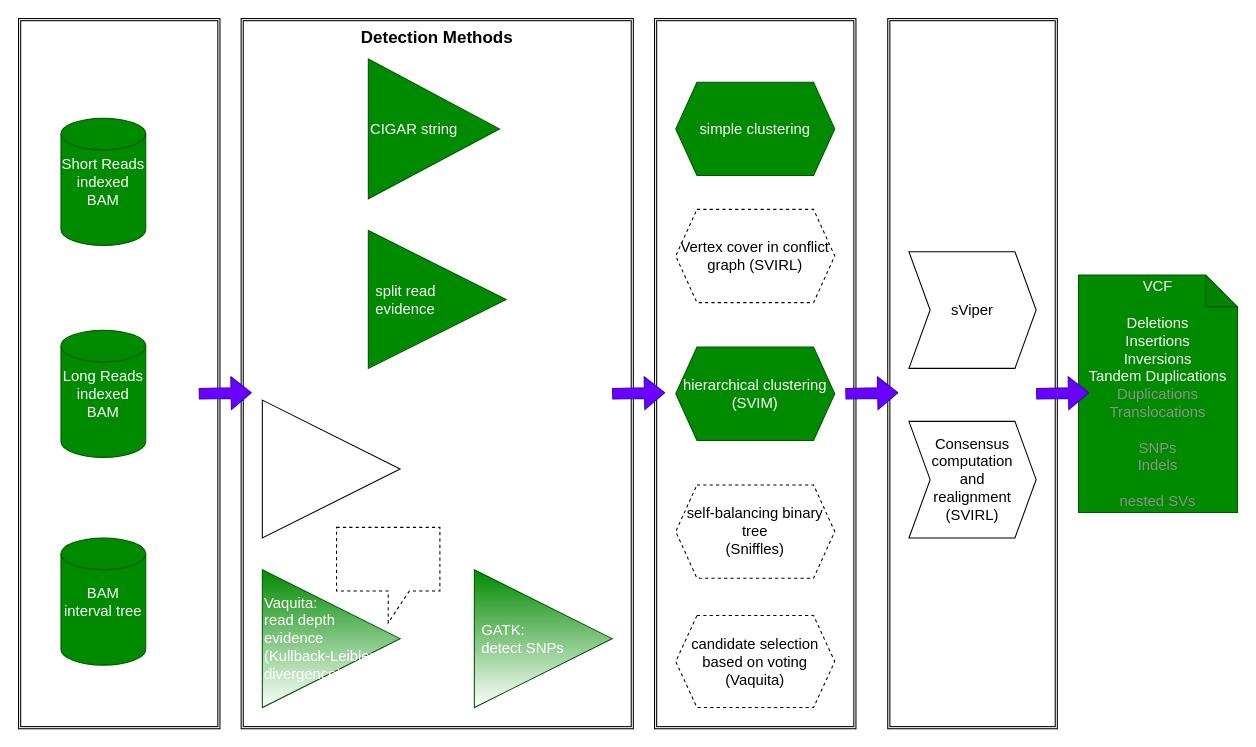
Some shapes in this 1256 by 747 pixel diagram are drawn without their labels. Here are the shapes that lost their labels. From the top down, the box of each, then its label:
(17, 17, 220, 729): Input
(653, 17, 856, 729): Clustering Methods
(887, 17, 1057, 729): Refinement Methods
(261, 399, 400, 538): Vaquita: read pair evidence
(335, 526, 440, 623): Maybe move this Method behind the clustering
